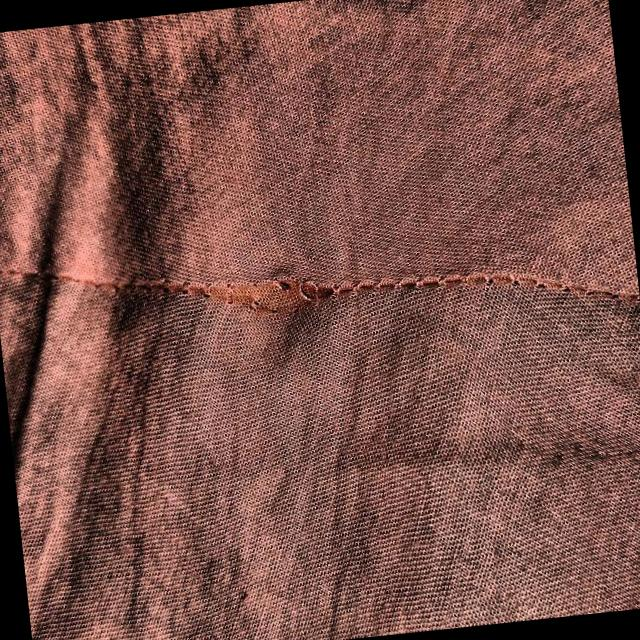gray stitch: (166, 245, 405, 362)
